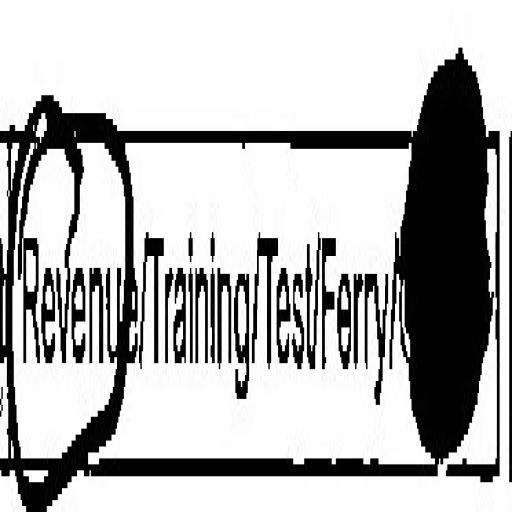check: (3, 7, 144, 512)
